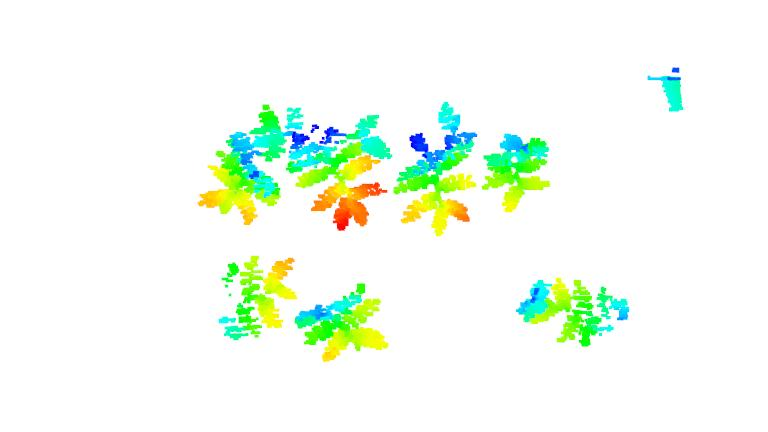chickpea: (280, 104, 392, 233), (395, 101, 480, 240), (193, 106, 285, 227), (516, 274, 631, 348), (213, 253, 302, 341), (293, 281, 387, 364), (481, 132, 560, 216)
